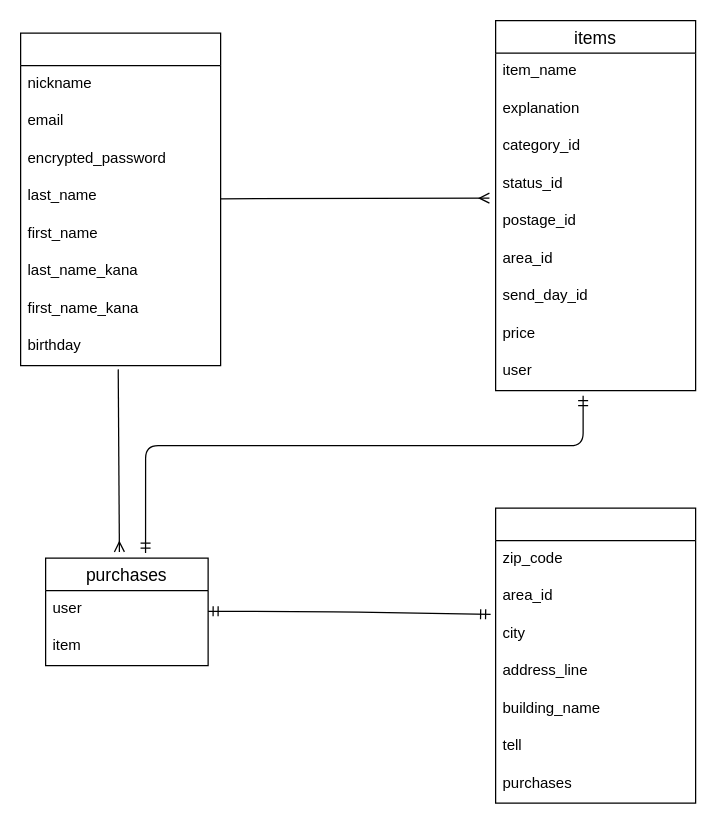
The diagram is 716 pixels wide and 824 high, and some of its shapes have lost their labels. Here are the shapes that lost their labels. From the top down, the box of each, then its label:
(19, 32, 221, 366): users
(494, 507, 696, 803): addresses
